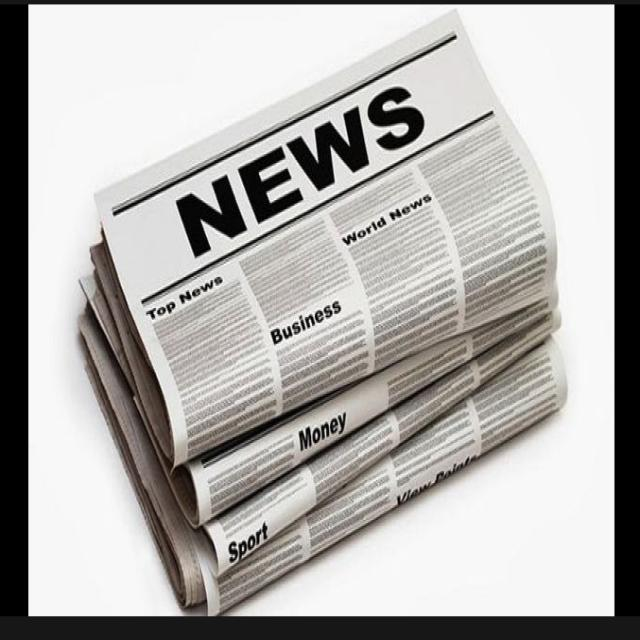Koran: (76, 8, 568, 614)
